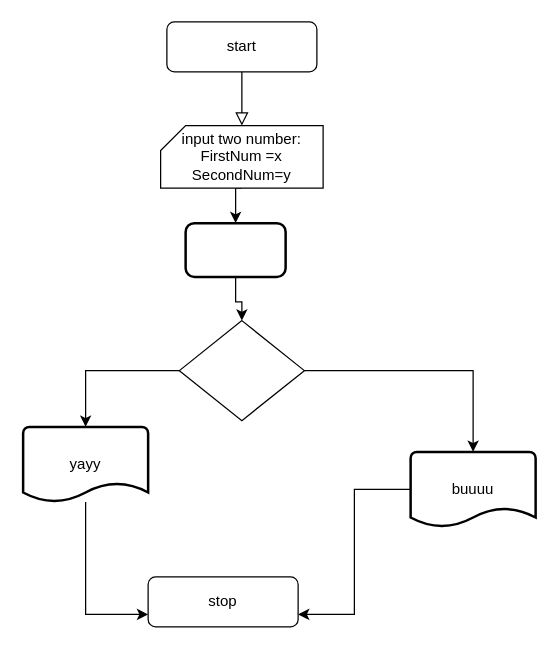
This 558x649 diagram has some shape labels left out. The shapes that lost their labels are listed below. From the top down, each one's box as (x1, y1, x2, y2) in pixels, then its label:
(184, 221, 286, 278): x*y=z
(178, 319, 304, 421): z>100
